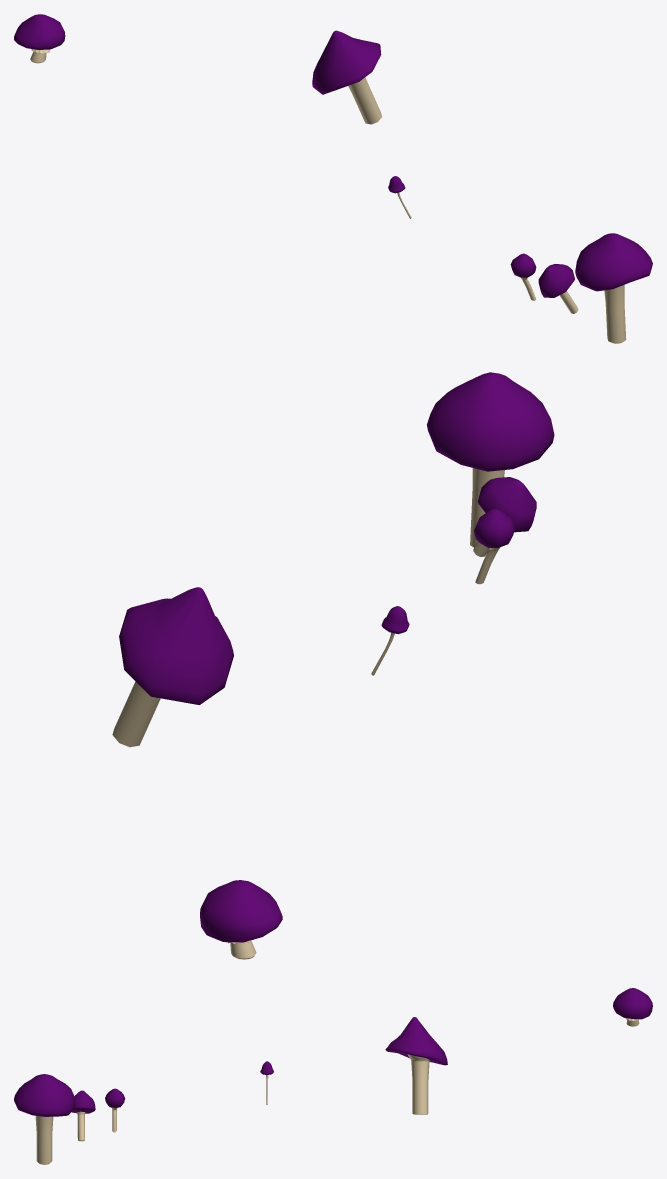
The model's file is Smaller Mushroom Basic.fbx.
3 views of the same model, one above another, from view 1: azimuth 30°, elevation 25°; view 2: azimuth 150°, elevation 25°; view 3: azimuth 270°, elevation 25° (orthographic). The views are drawn at different scales.
Parts seen in each view (by area): view 1: BigFrontMush, BigBackMush, MediumBackMush, MediumFrontMush, SmallFrontMush; view 2: BigBackMush, BigFrontMush, MediumBackMush, MediumFrontMush, SmallFrontMush; view 3: BigFrontMush, BigBackMush, MediumBackMush, MediumFrontMush, SmallFrontMush.
Boxes of the visible parts, x1,y1,x2,y2 form: BigFrontMush: (575,233,652,343); BigBackMush: (312,30,382,124); MediumBackMush: (14,14,65,63); MediumFrontMush: (538,264,578,313); SmallFrontMush: (510,253,536,300); BigBackMush: (112,587,233,747); BigFrontMush: (427,372,554,547); MediumBackMush: (200,880,282,959); MediumFrontMush: (473,477,536,556); SmallFrontMush: (474,509,515,584); BigFrontMush: (14,1074,74,1164); BigBackMush: (385,1017,447,1114); MediumBackMush: (613,988,652,1026); MediumFrontMush: (71,1090,95,1141); SmallFrontMush: (105,1088,125,1132).
Size of the model in its own units: 16.81 by 9.29 by 43.06.
